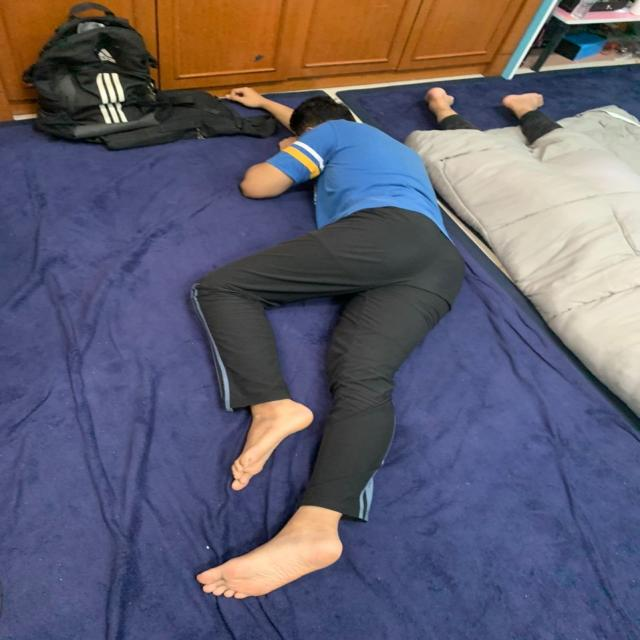Fall-Detected: (180, 84, 453, 600)
